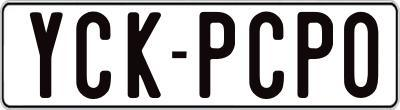0: (342, 11, 378, 97)
C: (249, 11, 289, 98), (73, 9, 109, 100)
K: (128, 11, 165, 102)
P: (197, 11, 237, 103), (296, 11, 331, 100)
Y: (28, 12, 61, 98)
